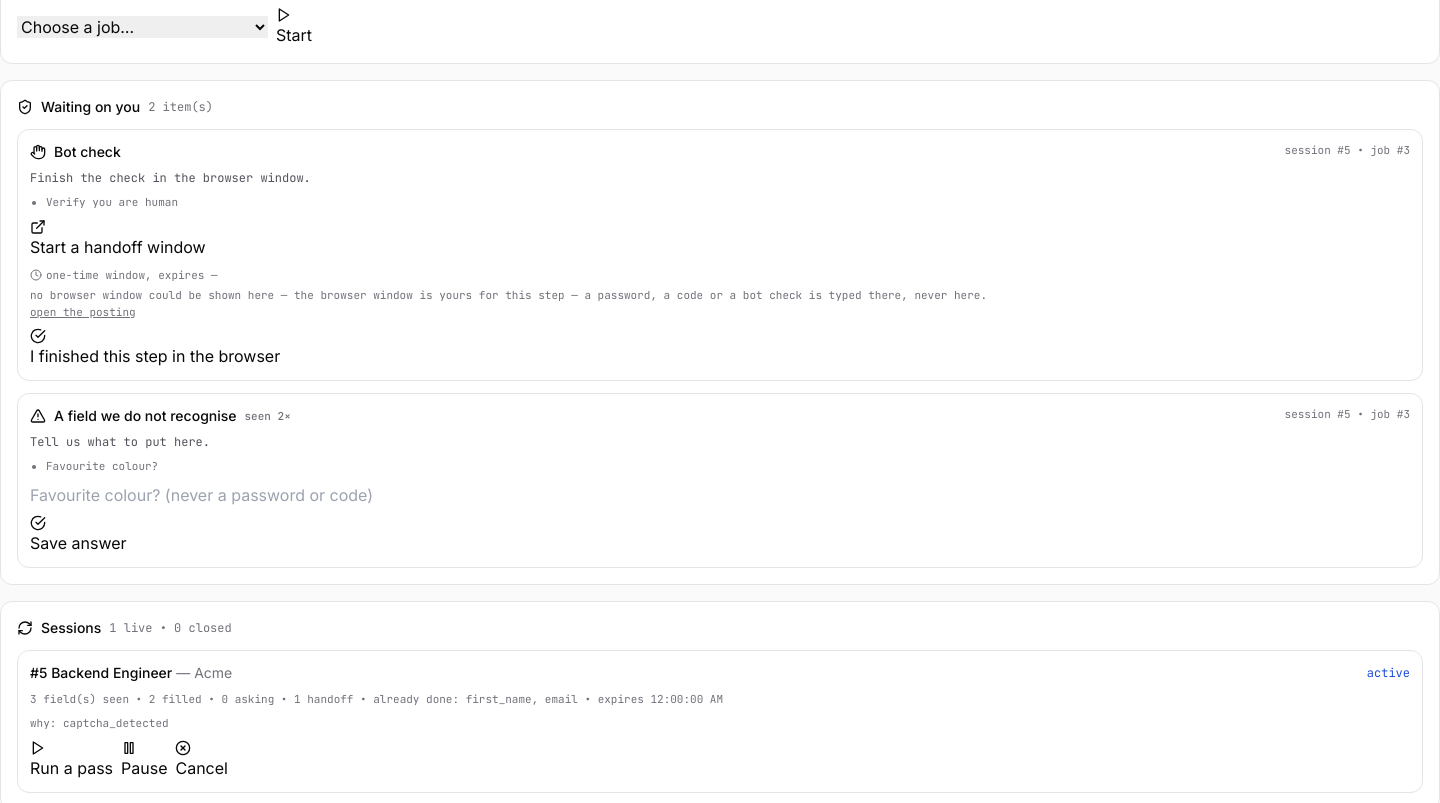
Assisted Apply page › says the portal confirmed the application only when it did
(page scrolled)
Click the button "Run a pass" at (72, 760), box [30,740,113,780]
(page scrolled)
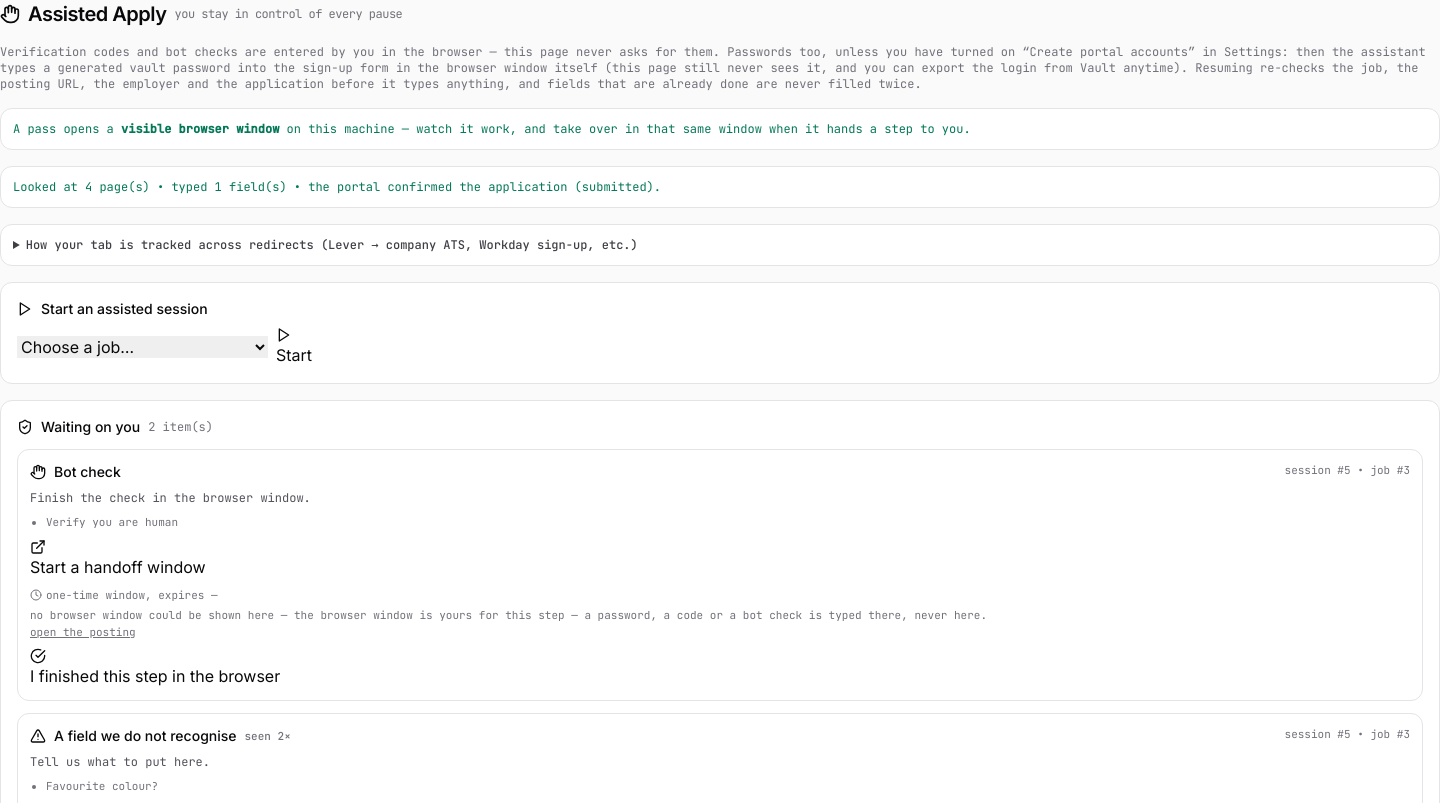
Expected: the text "the portal confirmed the application" is shown, [13,179,661,195]
